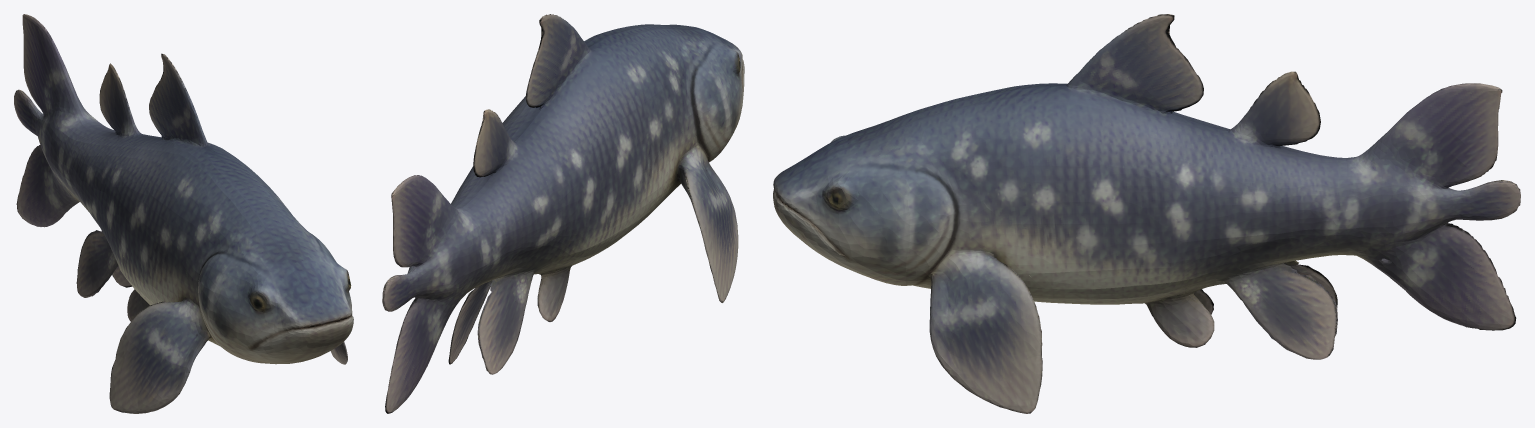
The picture shows the model from 3 angles, left to right: view 1: azimuth 30°, elevation 25°; view 2: azimuth 150°, elevation 25°; view 3: azimuth 270°, elevation 25°; orthographic projection. The views are drawn at different scales.
Parts seen in each view (by area): view 1: world; view 2: world; view 3: world.
Boxes of the visible parts, left/top/right/bottom form: world: left=14, top=14, right=353, bottom=413; world: left=382, top=14, right=744, bottom=413; world: left=773, top=14, right=1520, bottom=413.
Size of the model in its own units: 0.4031 by 0.4964 by 0.9998.
1 material, 1 textured.
